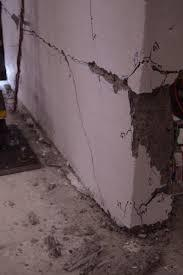spalling: (88, 61, 173, 199)
